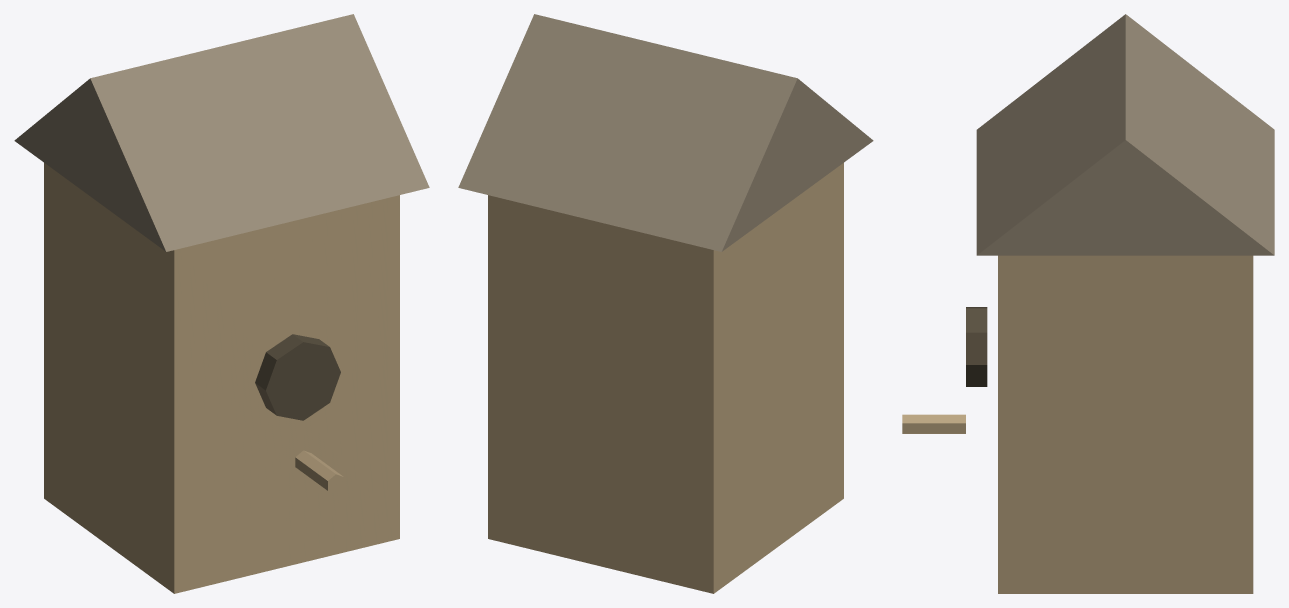
File: birdhouse.glb
3 renders of one model, left to right at view 1: azimuth 30°, elevation 25°; view 2: azimuth 150°, elevation 25°; view 3: azimuth 270°, elevation 25°, orthographic. The views are drawn at different scales.
Parts seen in each view (by area): view 1: Birdhouse; view 2: Birdhouse; view 3: Birdhouse.
Part boxes in pixels (x1,y1,x2,y2): Birdhouse: [14, 14, 429, 593]; Birdhouse: [458, 14, 873, 593]; Birdhouse: [902, 14, 1274, 593].
Bounding box in the file's own units: 0.14 × 0.24 × 0.175.
